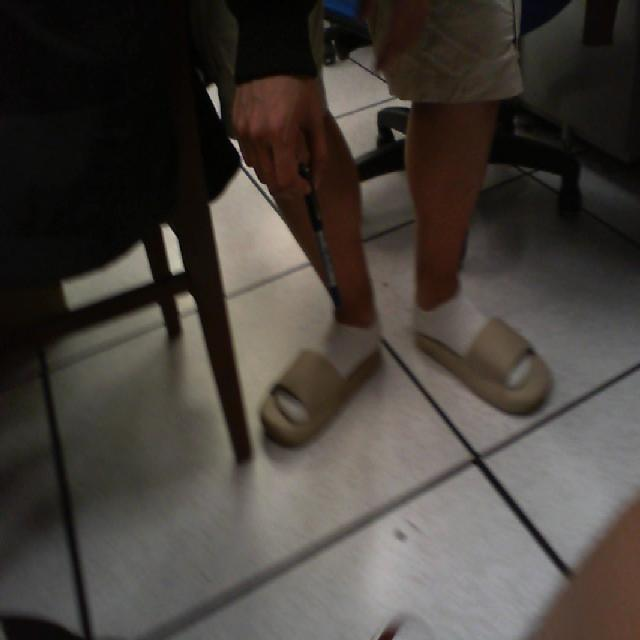Pen: (288, 153, 366, 335)
